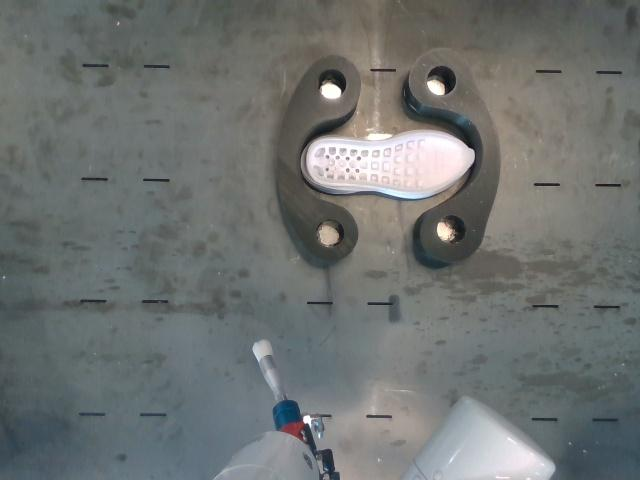shoes: (306, 133, 474, 192)
